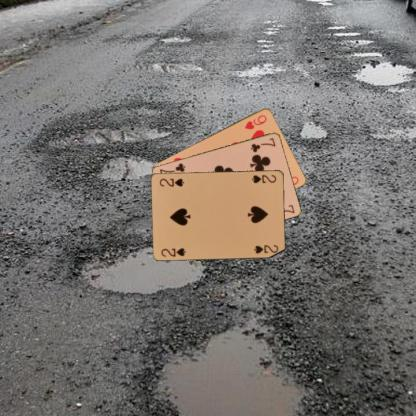2s: (159, 245, 187, 258), (250, 172, 277, 184)
7c: (248, 135, 277, 153)
9h: (242, 112, 268, 131)
